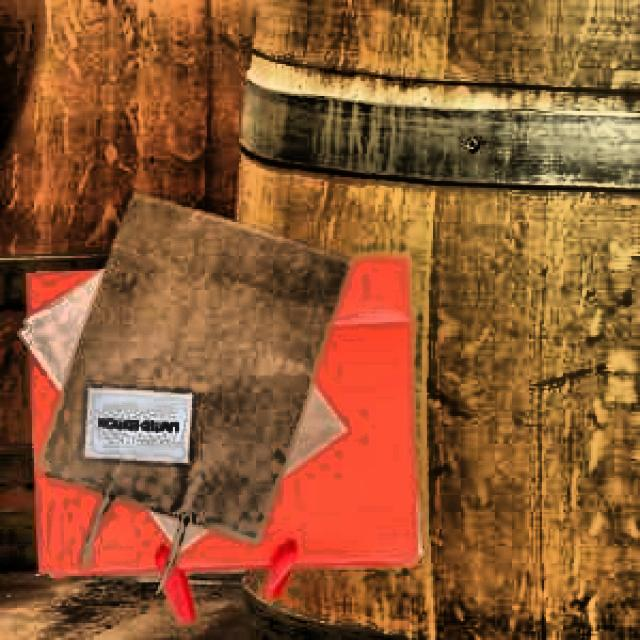Paper-bag: (20, 247, 437, 593), (45, 188, 354, 590)
